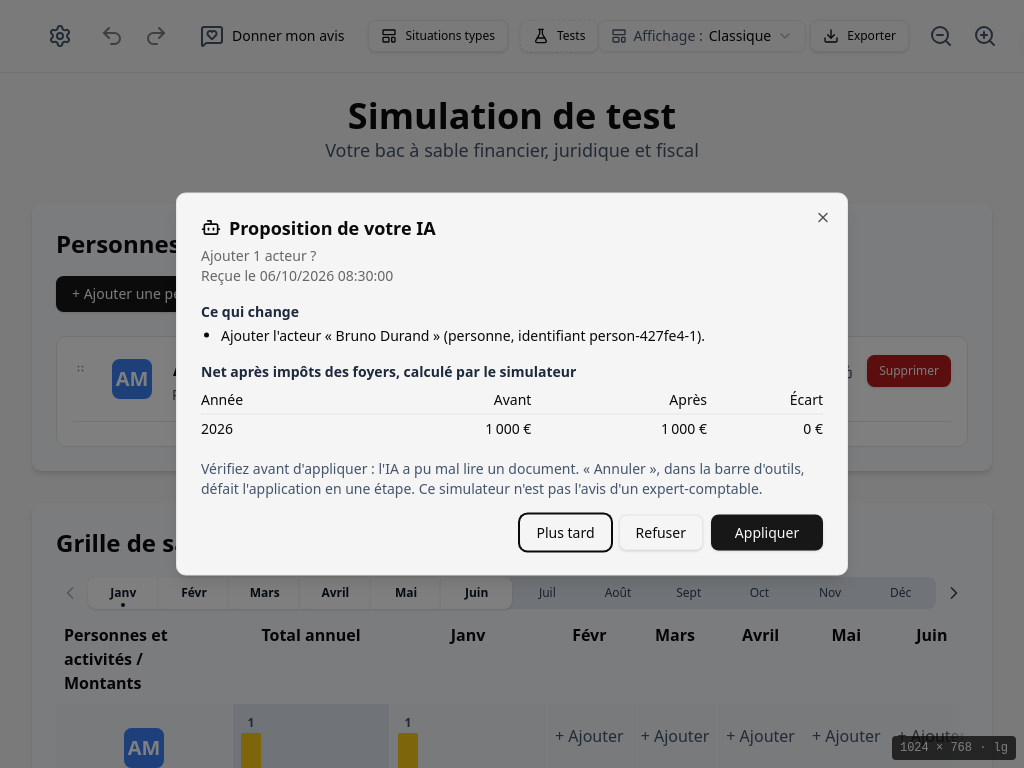
Scenario: App : propositions d'un client d'IA › refuser ne change rien et retire la proposition
Expected: the heading "Simulation de test" is shown, [348, 91, 676, 140]
What coordinates should you click on to do the following:
click the button "Refuser"
I would click on:
 (661, 532)
Its box is [618, 514, 703, 550].
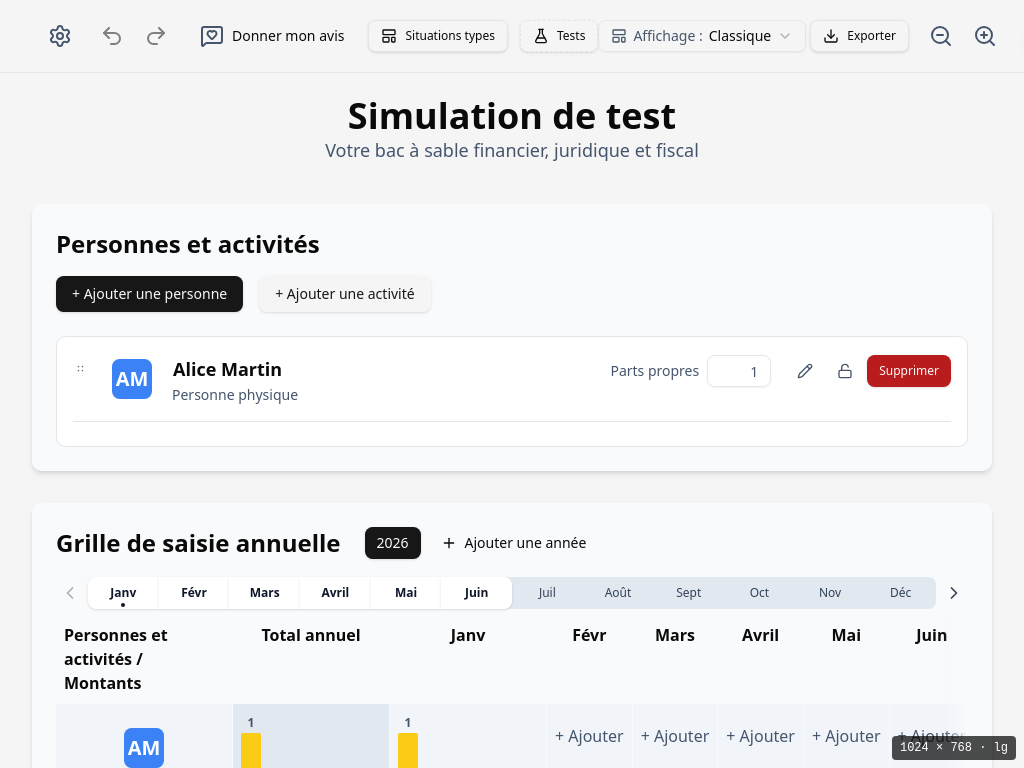
Expected: the button named "Annuler" is disabled, [92, 16, 132, 56]
Expected: the dialog is gone
